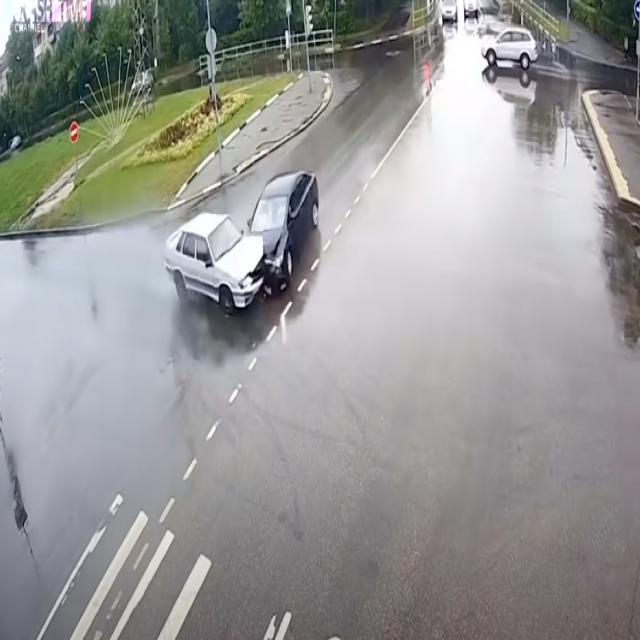accident: (154, 146, 332, 362)
